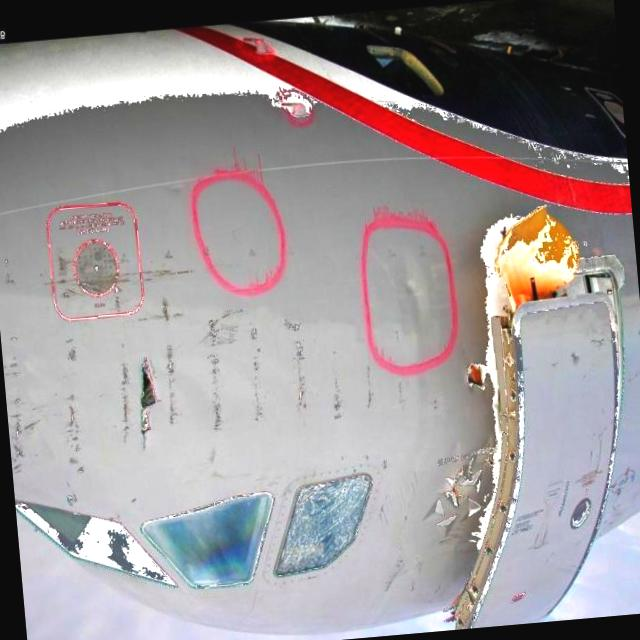crack: (130, 352, 164, 452), (461, 352, 492, 398)
dent: (388, 262, 436, 338)
